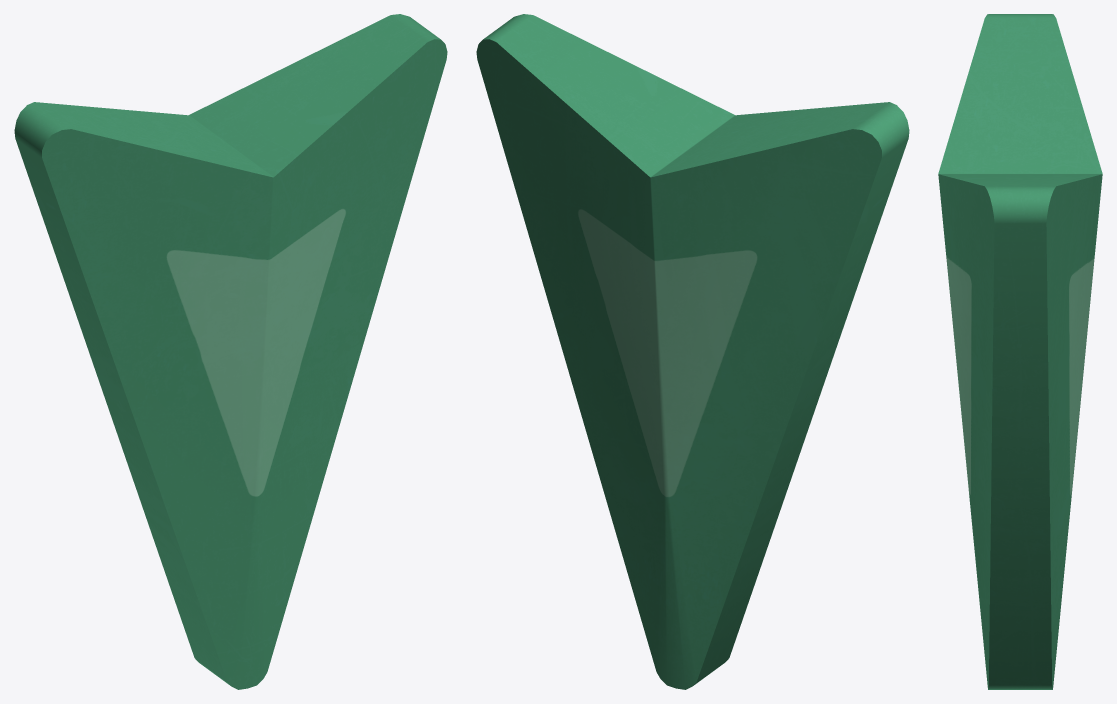
3 views of the same model, side by side, from view 1: azimuth 30°, elevation 25°; view 2: azimuth 150°, elevation 25°; view 3: azimuth 270°, elevation 25° (orthographic). The views are drawn at different scales.
Parts seen in each view (by area): view 1: Arrow2_Arrow2_0; view 2: Arrow2_Arrow2_0; view 3: Arrow2_Arrow2_0.
Boxes of the visible parts, x1,y1,x2,y2 form: Arrow2_Arrow2_0: (14, 14, 447, 689); Arrow2_Arrow2_0: (476, 14, 909, 689); Arrow2_Arrow2_0: (938, 14, 1102, 689).
Bounding box in the file's own units: 0.1618 × 0.2303 × 0.0588.
Materials: 1 (1 with a texture image).
